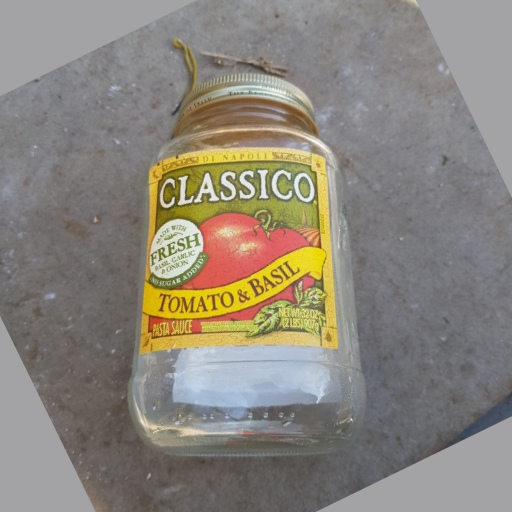Glass_5: (124, 75, 372, 450)
